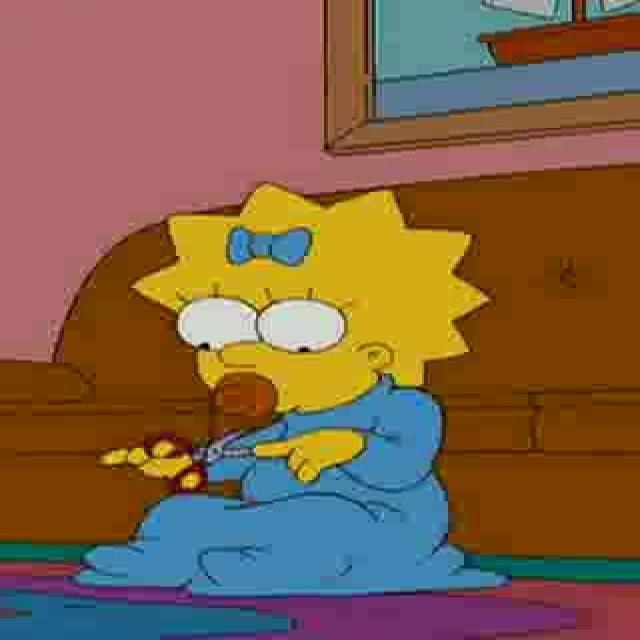Maggie Simpson: (126, 181, 494, 422)
